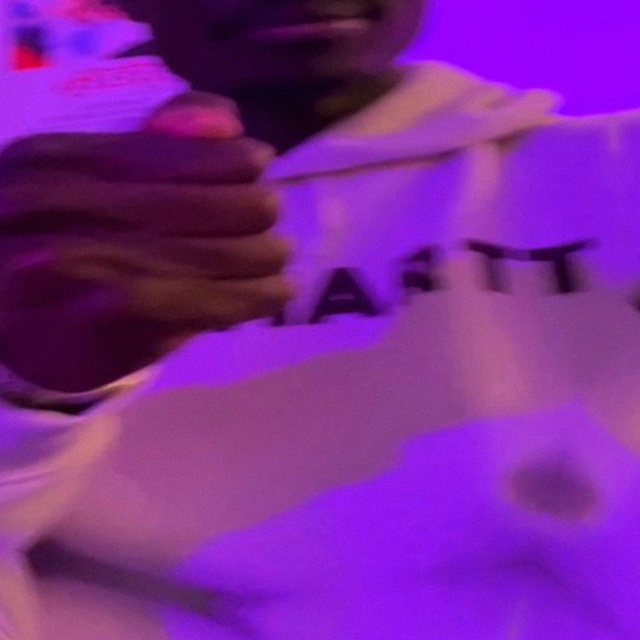Rock: (0, 0, 366, 470)
